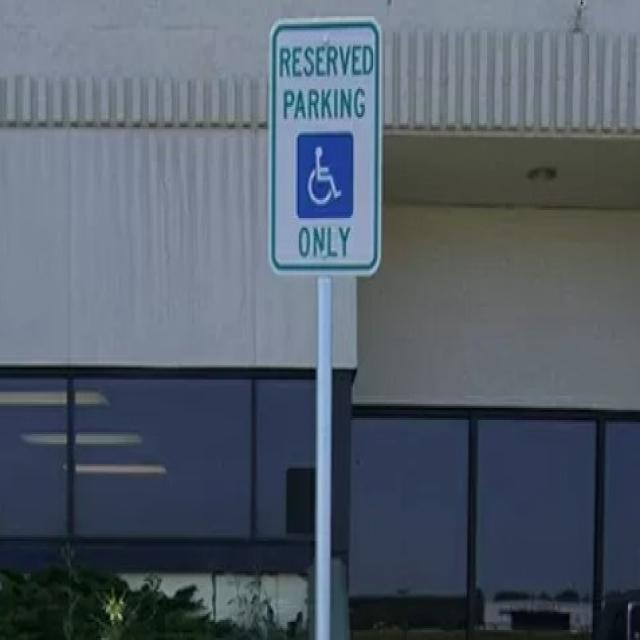symbol_of_access: (296, 133, 354, 220)
